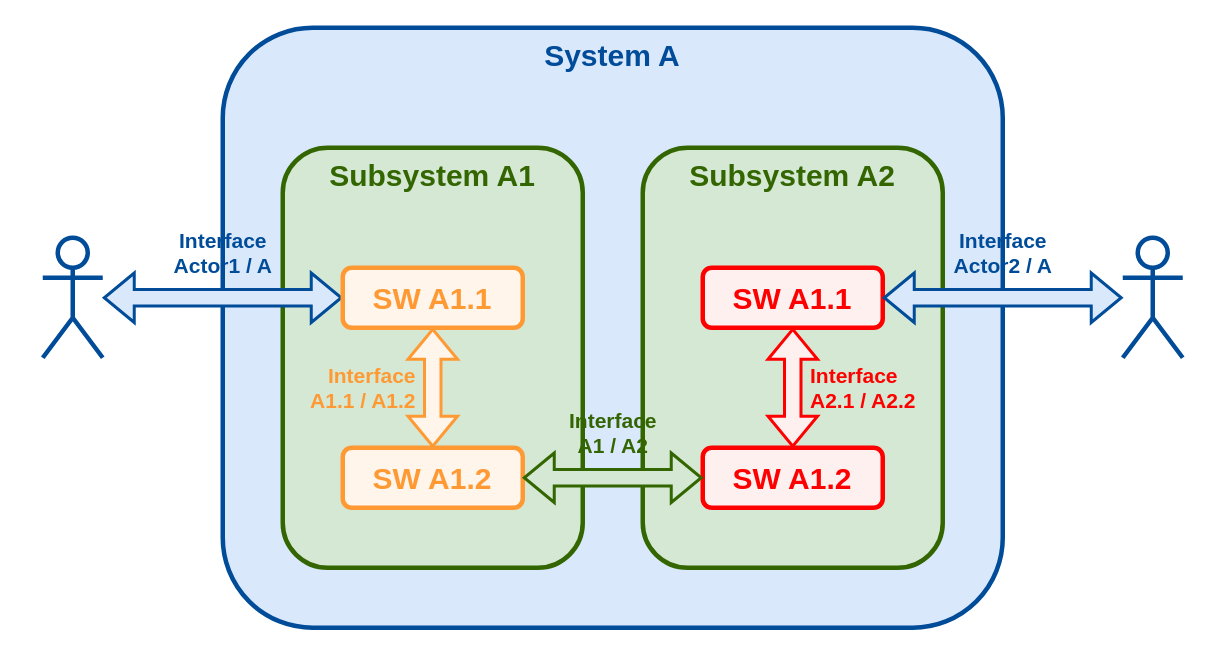
Image size: 1226x656. Some labels were removed from this diagram. Each missing label, with the centre of its shape:
"Actor1" belongs at pixel 72 297.
"Actor2" belongs at pixel 1152 297.
